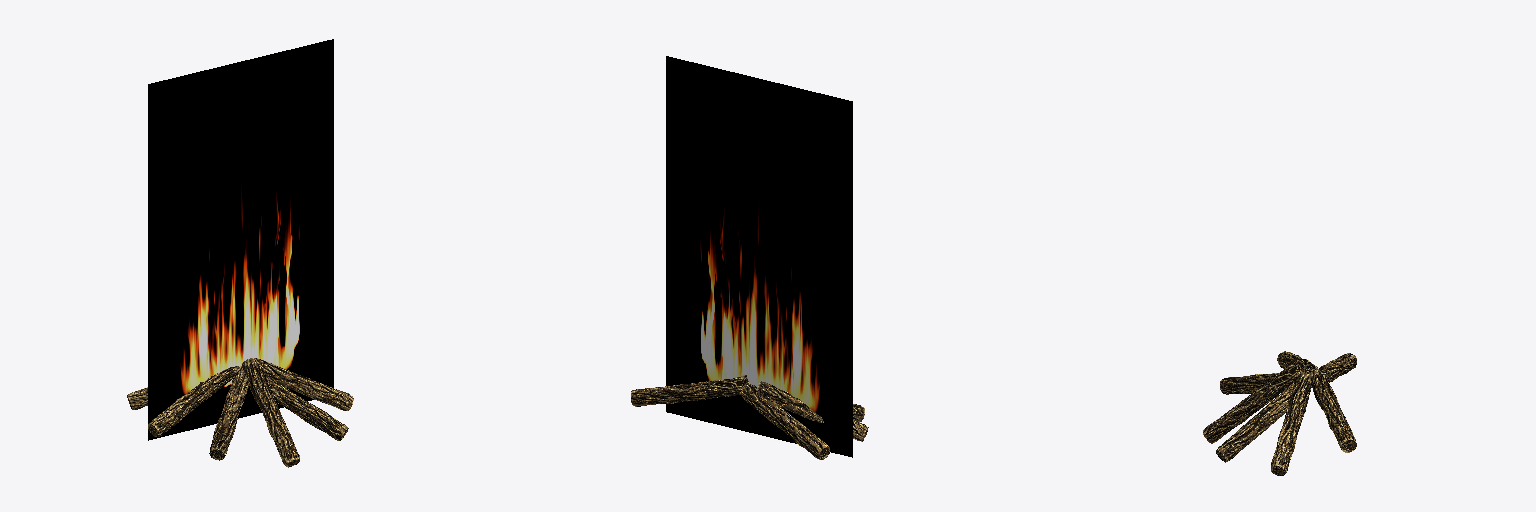
3 renders of one model, left to right at view 1: azimuth 30°, elevation 25°; view 2: azimuth 150°, elevation 25°; view 3: azimuth 270°, elevation 25°, orthographic.
Parts seen in each view (by area): view 1: Plane, Cylinder.003, Cylinder.004, Cylinder.002, Cylinder.001, Cylinder.005; view 2: Plane, Cylinder.007, Cylinder.006, Cylinder.004; view 3: Cylinder.003, Cylinder.002, Cylinder.005, Cylinder.007, Cylinder.001, Cylinder.006.
Part boxes in pixels (left/top/right/bottom): Plane: left=148, top=39, right=333, bottom=440; Cylinder.003: left=242, top=358, right=299, bottom=467; Cylinder.004: left=148, top=366, right=238, bottom=436; Cylinder.002: left=257, top=358, right=353, bottom=410; Cylinder.001: left=209, top=366, right=248, bottom=460; Cylinder.005: left=265, top=376, right=348, bottom=440; Plane: left=666, top=56, right=852, bottom=457; Cylinder.007: left=631, top=378, right=746, bottom=406; Cylinder.006: left=741, top=384, right=829, bottom=459; Cylinder.004: left=757, top=381, right=868, bottom=441; Cylinder.003: left=1203, top=363, right=1301, bottom=443; Cylinder.002: left=1271, top=373, right=1311, bottom=475; Cylinder.005: left=1216, top=383, right=1293, bottom=462; Cylinder.007: left=1310, top=370, right=1356, bottom=452; Cylinder.001: left=1220, top=372, right=1306, bottom=394; Cylinder.006: left=1312, top=353, right=1356, bottom=382.
Bounding box in the file's own units: 0.3802 × 0.6608 × 0.2485.
2 materials, 2 textured.